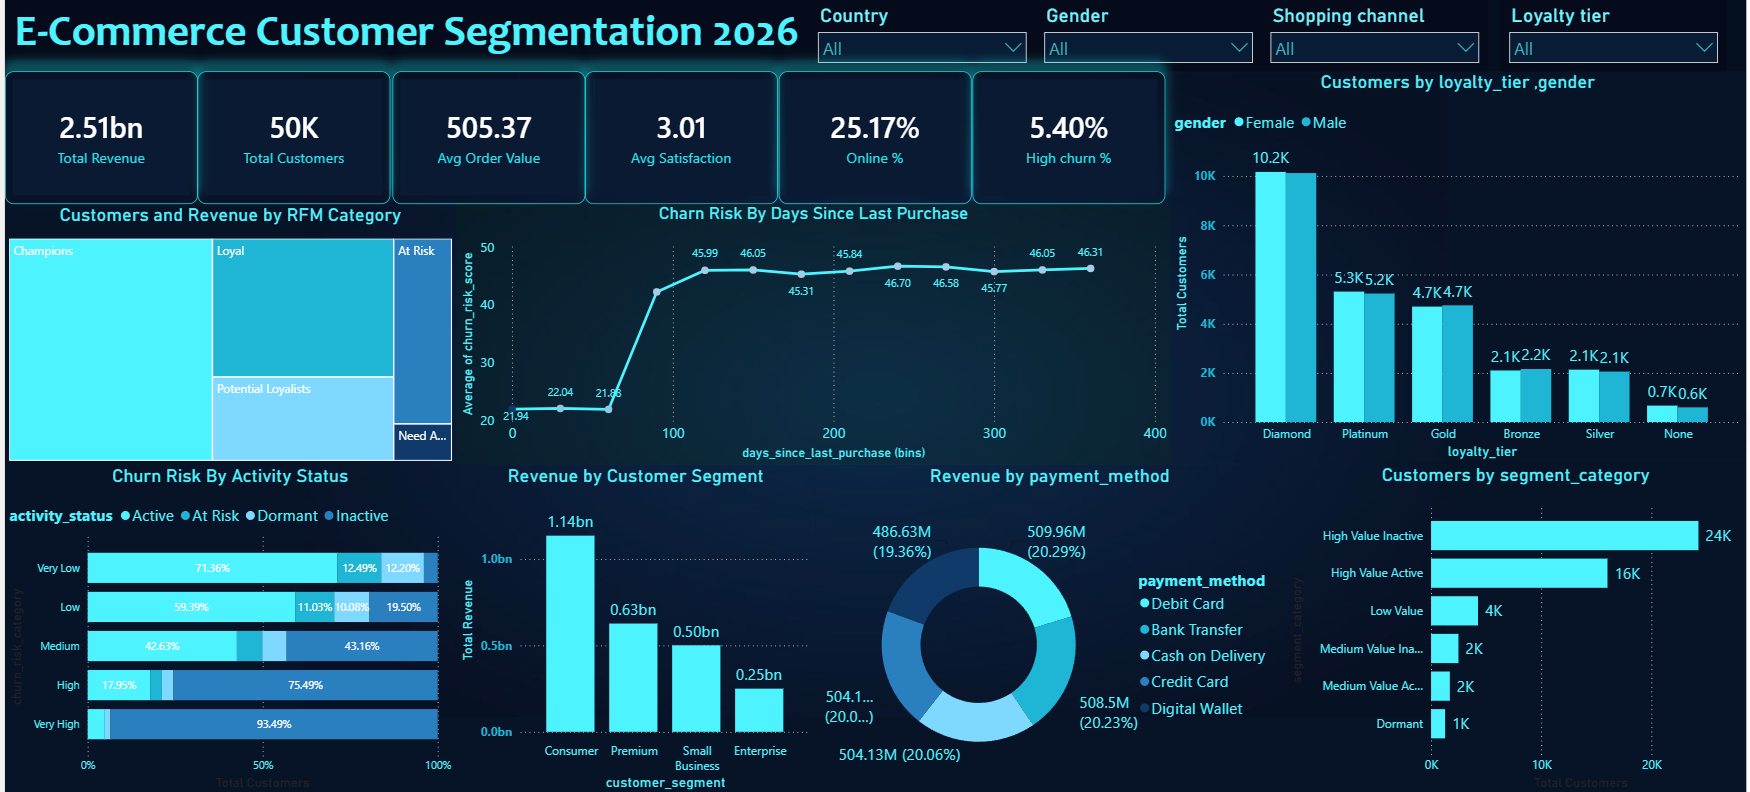

The page's visual inventory and layout, read from the dashboard file:
{"tool":"powerbi","page":{"name":"Page 1","canvas":[1950,890],"ordinal":0},"visuals":[{"type":"textbox","box":[0,0,899.9,79.8],"z":0},{"type":"slicer","fields":{"Values":["CUSTOMERS.country"]},"box":[899.9,0,254,79.8],"z":1000},{"type":"slicer","fields":{"Values":["CUSTOMERS.shopping_channel"]},"box":[1406.5,0,254,79.8],"z":2000},{"type":"slicer","fields":{"Values":["CUSTOMERS.gender"]},"box":[1153.2,0,254,79.8],"z":3000},{"type":"cardVisual","fields":{"Data":["CUSTOMERS.Avg Satisfaction"]},"box":[650.1,79.7,216.1,148.8],"z":4000},{"type":"lineChart","title":"Charn Risk By Days Since Last Purchase","fields":{"Category":["CUSTOMERS.days_since_last_purchase (bins)"],"Y":["Avg(CUSTOMERS.churn_risk_score)"]},"box":[504.9,228.5,800.7,292.3],"z":5000},{"type":"donutChart","title":" Revenue by payment_method","fields":{"Y":["CUSTOMERS.Total Revenue"],"Category":["CUSTOMERS.payment_method"]},"box":[907,520.8,526.1,368.5],"z":6000},{"type":"clusteredColumnChart","title":" Customers by loyalty_tier ,gender","fields":{"Y":["CUSTOMERS.Total Customers"],"Category":["CUSTOMERS.loyalty_tier"],"Series":["CUSTOMERS.gender"]},"box":[1305.6,79.7,644.8,439.3],"z":7000},{"type":"clusteredColumnChart","title":"Revenue by Customer Segment","fields":{"Category":["CUSTOMERS.customer_segment"],"Y":["CUSTOMERS.Total Revenue"]},"box":[504.9,520.8,402.1,368.5],"z":8000},{"type":"treemap","title":" Customers and  Revenue by RFM Category","fields":{"Group":["CUSTOMERS.rfm_category"],"Values":["CUSTOMERS.Total Customers"]},"box":[0,228.2,505.4,292.6],"z":9000},{"type":"hundredPercentStackedBarChart","title":"Churn Risk By Activity Status","fields":{"Y":["CUSTOMERS.Total Customers"],"Category":["CUSTOMERS.churn_risk_category"],"Series":["CUSTOMERS.activity_status"]},"box":[0,520.8,504.9,368.5],"z":10000},{"type":"barChart","title":" Customers by segment_category","fields":{"Y":["CUSTOMERS.Total Customers"],"Category":["CUSTOMERS.segment_category"]},"box":[1433.1,519,517.3,370.2],"z":11000},{"type":"slicer","fields":{"Values":["CUSTOMERS.loyalty_tier"]},"box":[1674,0,254,79.8],"z":12000},{"type":"cardVisual","fields":{"Data":["CUSTOMERS.Avg Order Value"]},"box":[434,79.7,216.1,148.8],"z":13000},{"type":"cardVisual","fields":{"Data":["CUSTOMERS.Total Customers"]},"box":[216.1,79.7,216.1,148.8],"z":14000},{"type":"cardVisual","fields":{"Data":["CUSTOMERS.Online %"]},"box":[866.2,79.7,216.1,148.8],"z":15000},{"type":"cardVisual","fields":{"Data":["CUSTOMERS.High churn %"]},"box":[1084.1,79.7,216.1,148.8],"z":16000},{"type":"cardVisual","fields":{"Data":["CUSTOMERS.Total Revenue"]},"box":[0,79.7,216.1,148.8],"z":17000}]}

Visuals, with their boxes in screenshot pixels (x1, y1, x2, y2), scaled from the page's 1950x890 canvas onto the 1750x792 screenshot:
textbox: <bbox>0, 0, 808, 71</bbox>
slicer - CUSTOMERS.country: <bbox>808, 0, 1036, 71</bbox>
slicer - CUSTOMERS.shopping_channel: <bbox>1262, 0, 1490, 71</bbox>
slicer - CUSTOMERS.gender: <bbox>1035, 0, 1263, 71</bbox>
cardVisual - CUSTOMERS.Avg Satisfaction: <bbox>583, 71, 777, 203</bbox>
"Charn Risk By Days Since Last Purchase" lineChart: <bbox>453, 203, 1172, 463</bbox>
" Revenue by payment_method" donutChart: <bbox>814, 463, 1286, 791</bbox>
" Customers by loyalty_tier ,gender" clusteredColumnChart: <bbox>1172, 71, 1749, 462</bbox>
"Revenue by Customer Segment" clusteredColumnChart: <bbox>453, 463, 814, 791</bbox>
" Customers and  Revenue by RFM Category" treemap: <bbox>0, 203, 454, 463</bbox>
"Churn Risk By Activity Status" hundredPercentStackedBarChart: <bbox>0, 463, 453, 791</bbox>
" Customers by segment_category" barChart: <bbox>1286, 462, 1749, 791</bbox>
slicer - CUSTOMERS.loyalty_tier: <bbox>1502, 0, 1730, 71</bbox>
cardVisual - CUSTOMERS.Avg Order Value: <bbox>389, 71, 583, 203</bbox>
cardVisual - CUSTOMERS.Total Customers: <bbox>194, 71, 388, 203</bbox>
cardVisual - CUSTOMERS.Online %: <bbox>777, 71, 971, 203</bbox>
cardVisual - CUSTOMERS.High churn %: <bbox>973, 71, 1167, 203</bbox>
cardVisual - CUSTOMERS.Total Revenue: <bbox>0, 71, 194, 203</bbox>
